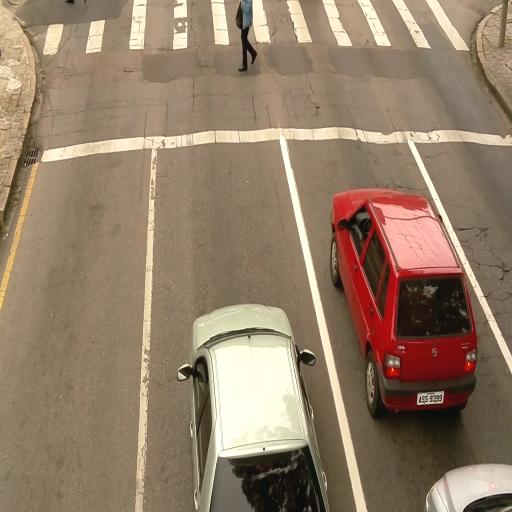car: (330, 190, 477, 416), (178, 304, 327, 512), (423, 463, 512, 510)
